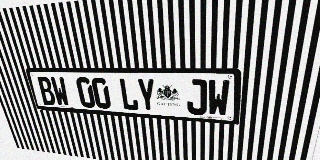0: (75, 77, 96, 108), (91, 77, 111, 109)
B: (36, 77, 57, 106)
J: (186, 79, 207, 115)
L: (118, 78, 139, 111)
W: (207, 79, 230, 117), (50, 77, 71, 107)
Y: (136, 78, 157, 112)
